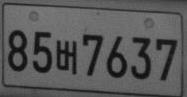3: (131, 36, 152, 80)
5: (31, 30, 53, 73)
6: (105, 35, 128, 78)
7: (155, 38, 178, 81), (82, 33, 103, 76)
8: (7, 28, 28, 72)
버: (55, 39, 77, 74)
